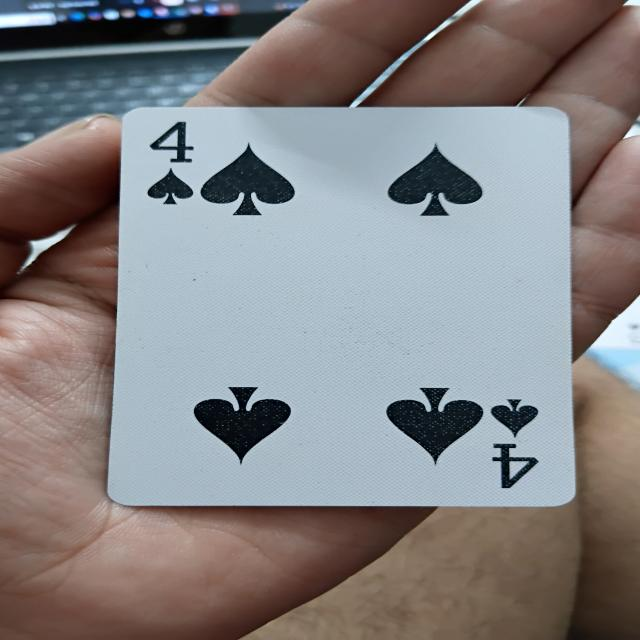4S: (109, 105, 582, 508)
